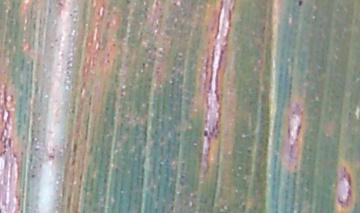tarspot: (202, 126, 211, 139), (296, 1, 305, 8), (141, 60, 147, 67)
